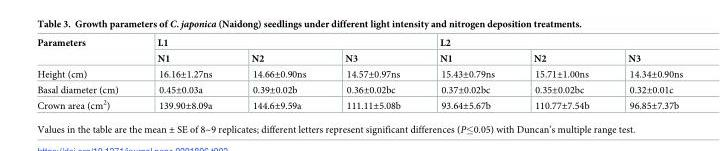table: (36, 37, 682, 111)
table column: (36, 37, 137, 111), (324, 37, 419, 111), (513, 37, 608, 111), (137, 37, 231, 111), (419, 37, 513, 111), (231, 37, 324, 111), (608, 37, 682, 111)
table column header: (36, 37, 682, 65)
table row: (36, 65, 682, 81), (36, 81, 682, 97), (36, 50, 682, 65), (36, 97, 682, 111), (36, 37, 682, 50)
table spanning cell: (137, 37, 419, 50), (419, 37, 682, 50), (36, 37, 137, 65)
